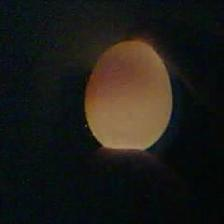infertile: (83, 39, 174, 152)
